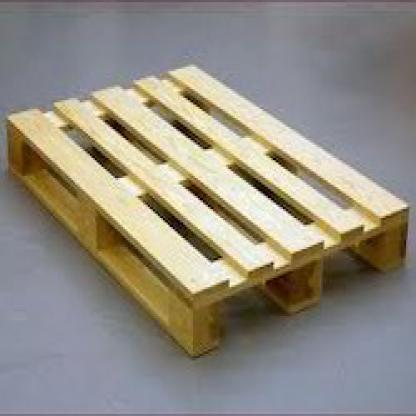BoxFace: (5, 62, 412, 366)
